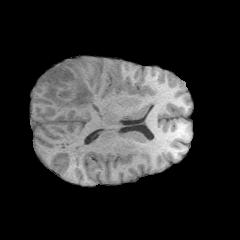glioma: (39, 62, 94, 108)
